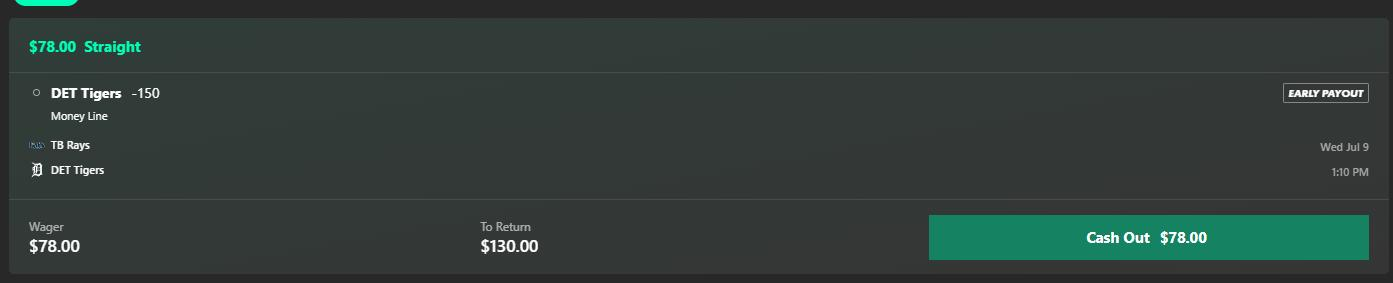game: (48, 138, 107, 178)
odds: (128, 86, 162, 103)
payout: (480, 231, 540, 261)
wager: (28, 233, 82, 259)
